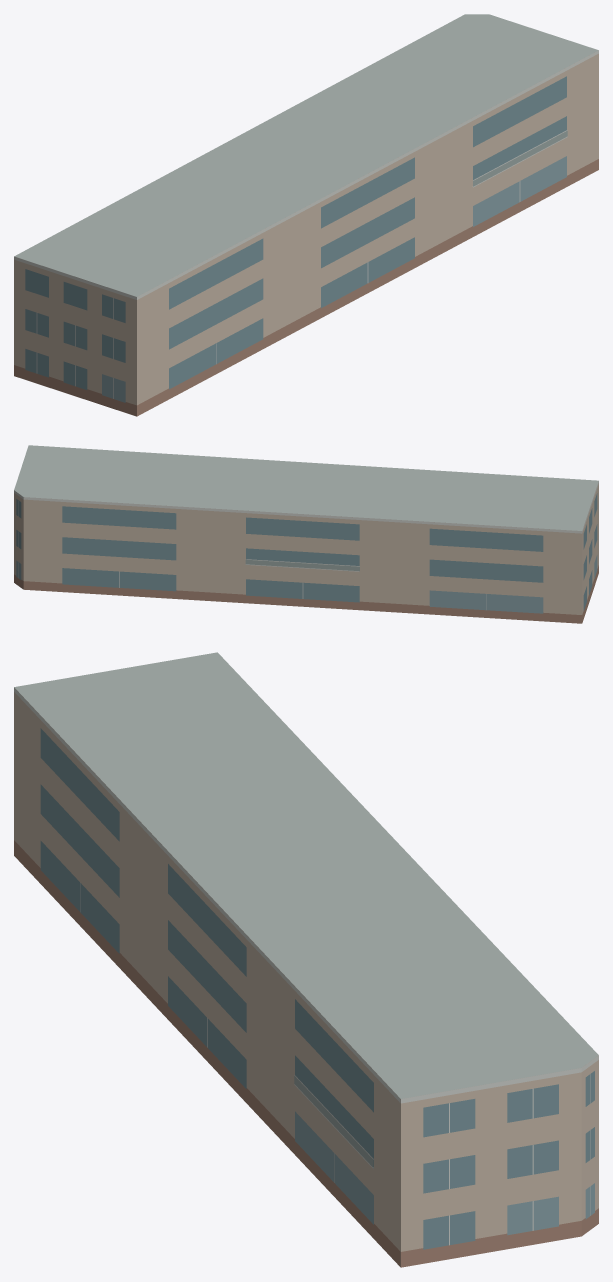
File: survey-upis-32911162.glb
3 renders of one model, top to bottom at view 1: azimuth 30°, elevation 25°; view 2: azimuth 150°, elevation 25°; view 3: azimuth 270°, elevation 25°, orthographic. The views are drawn at different scales.
Parts seen in each view (by area): view 1: survey-upis-32911162.tmp; view 2: survey-upis-32911162.tmp; view 3: survey-upis-32911162.tmp.
Part boxes in pixels (left/top/right/bottom): survey-upis-32911162.tmp: left=14, top=14, right=598, bottom=416; survey-upis-32911162.tmp: left=14, top=445, right=598, bottom=623; survey-upis-32911162.tmp: left=14, top=652, right=598, bottom=1267.
Size of the model in its own units: 52.02 by 9.15 by 28.78.
